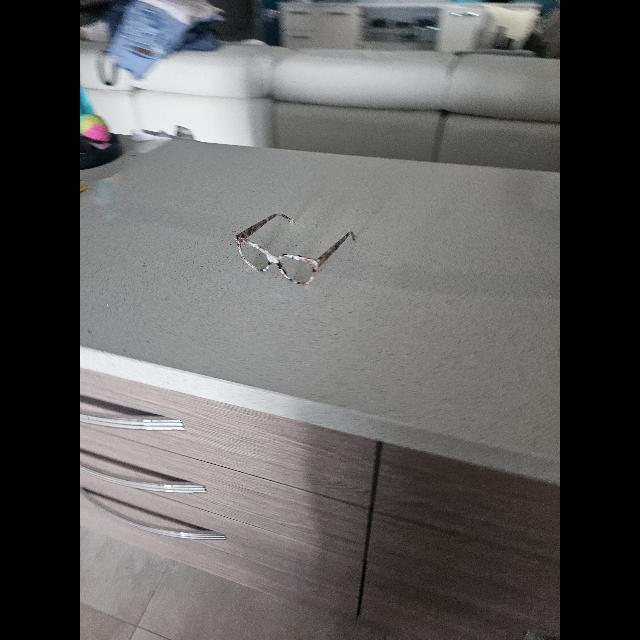glasses: (235, 214, 355, 284)
